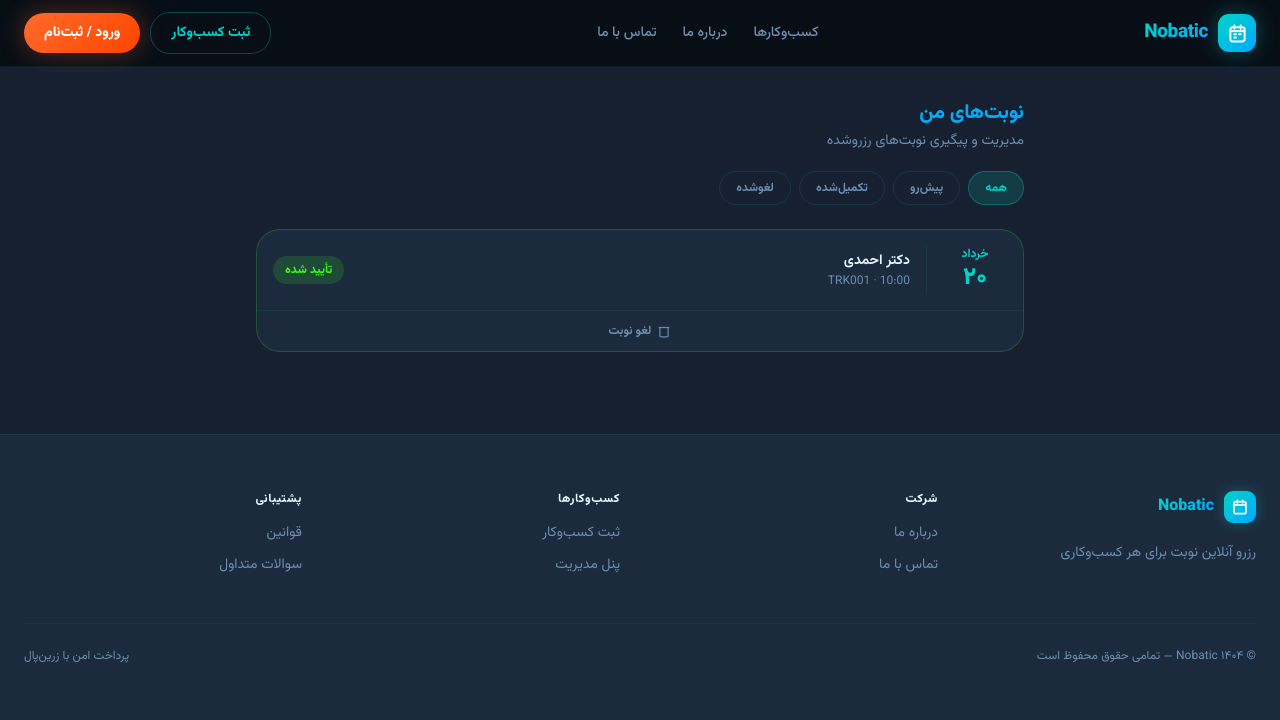
Test: MyAppointmentsPage › shows success toast after cancel succeeds
This screenshot has width=1280, height=720.
Click the button "لغو نوبت" at (640, 331), box [257, 311, 1023, 351]
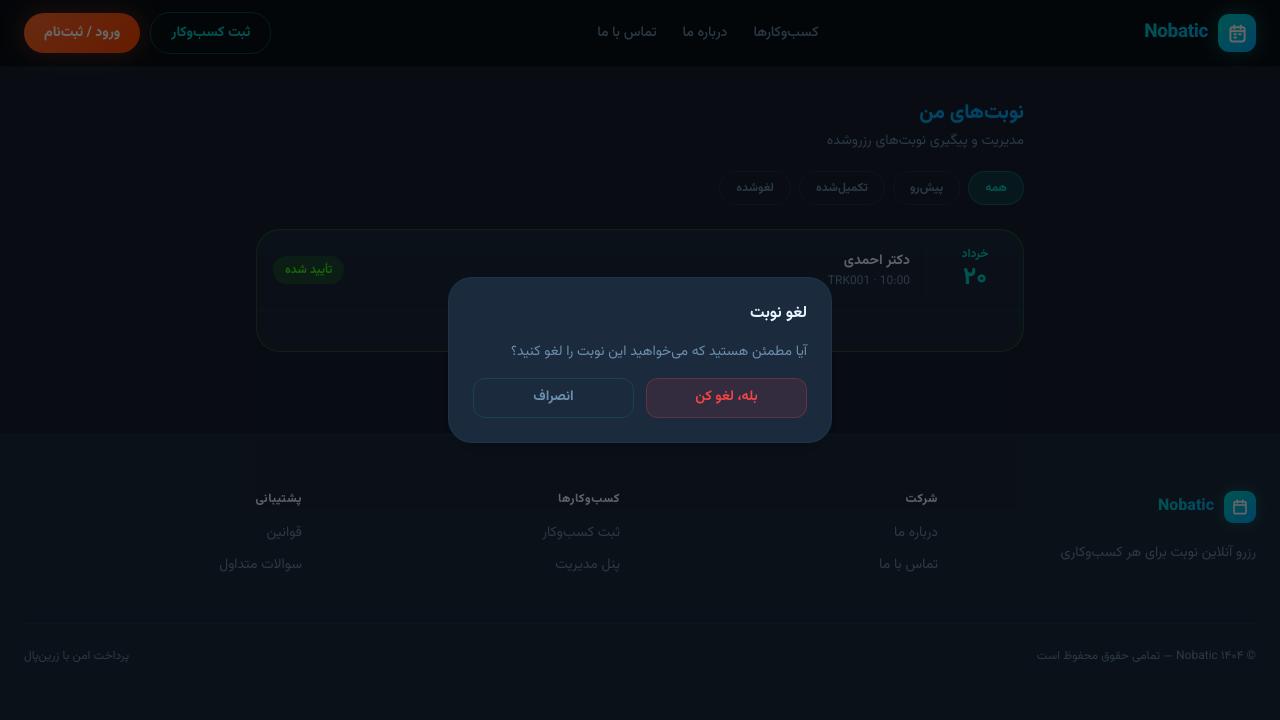
Click the button "بله، لغو کن" at (726, 398), box [646, 378, 807, 418]
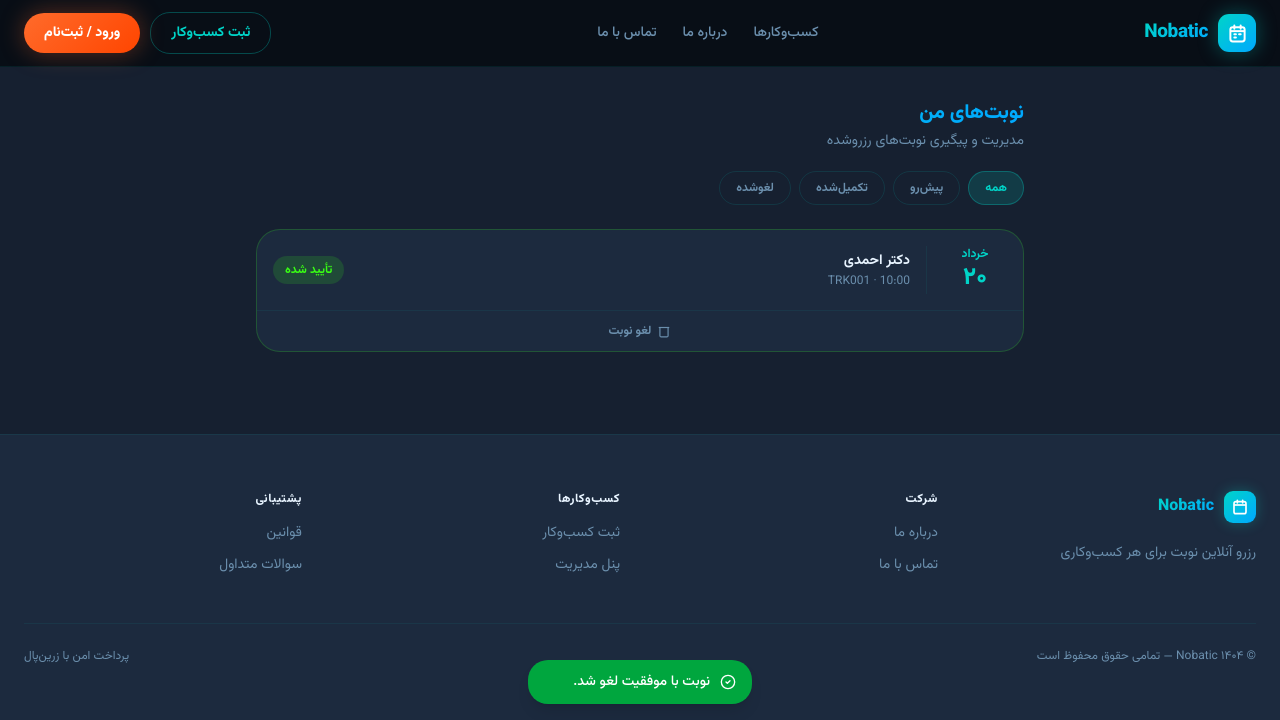
Expected: the text "نوبت با موفقیت لغو شد." is shown, [573, 671, 710, 693]
